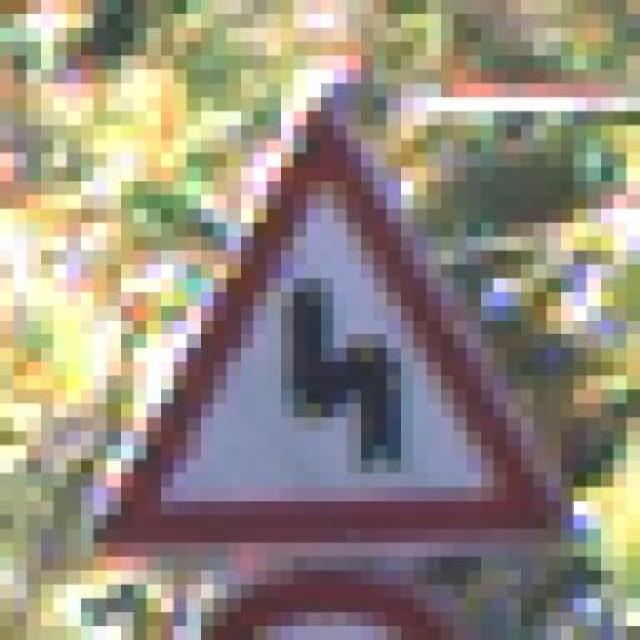Left Zig Zag Traffic: (66, 97, 600, 571)
